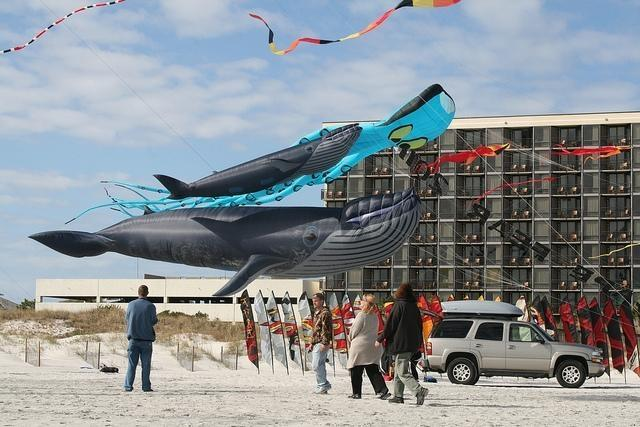car: (422, 317, 612, 393)
